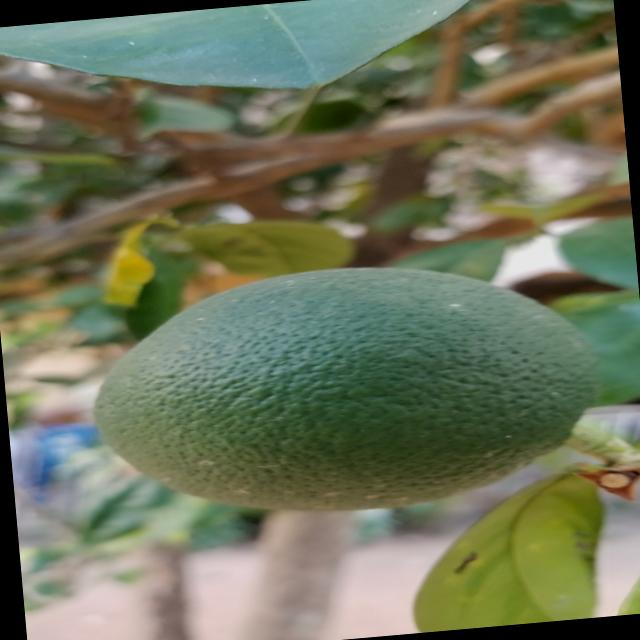Unripe: (65, 243, 608, 542)
